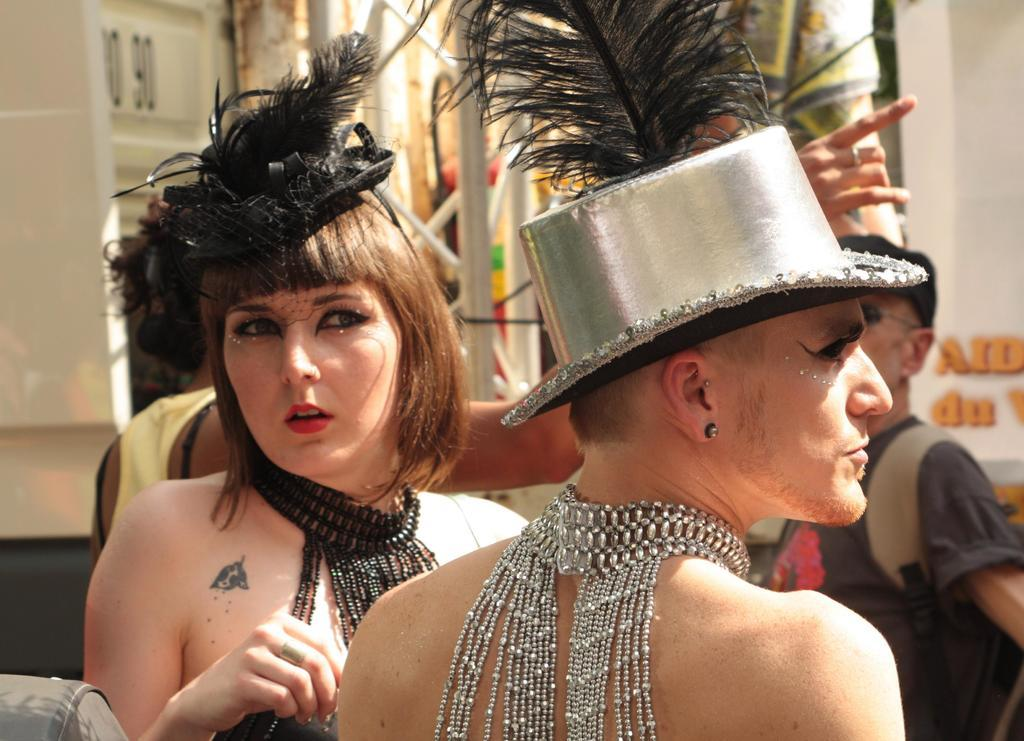Hat: (404, 0, 928, 427), (106, 29, 396, 248)
